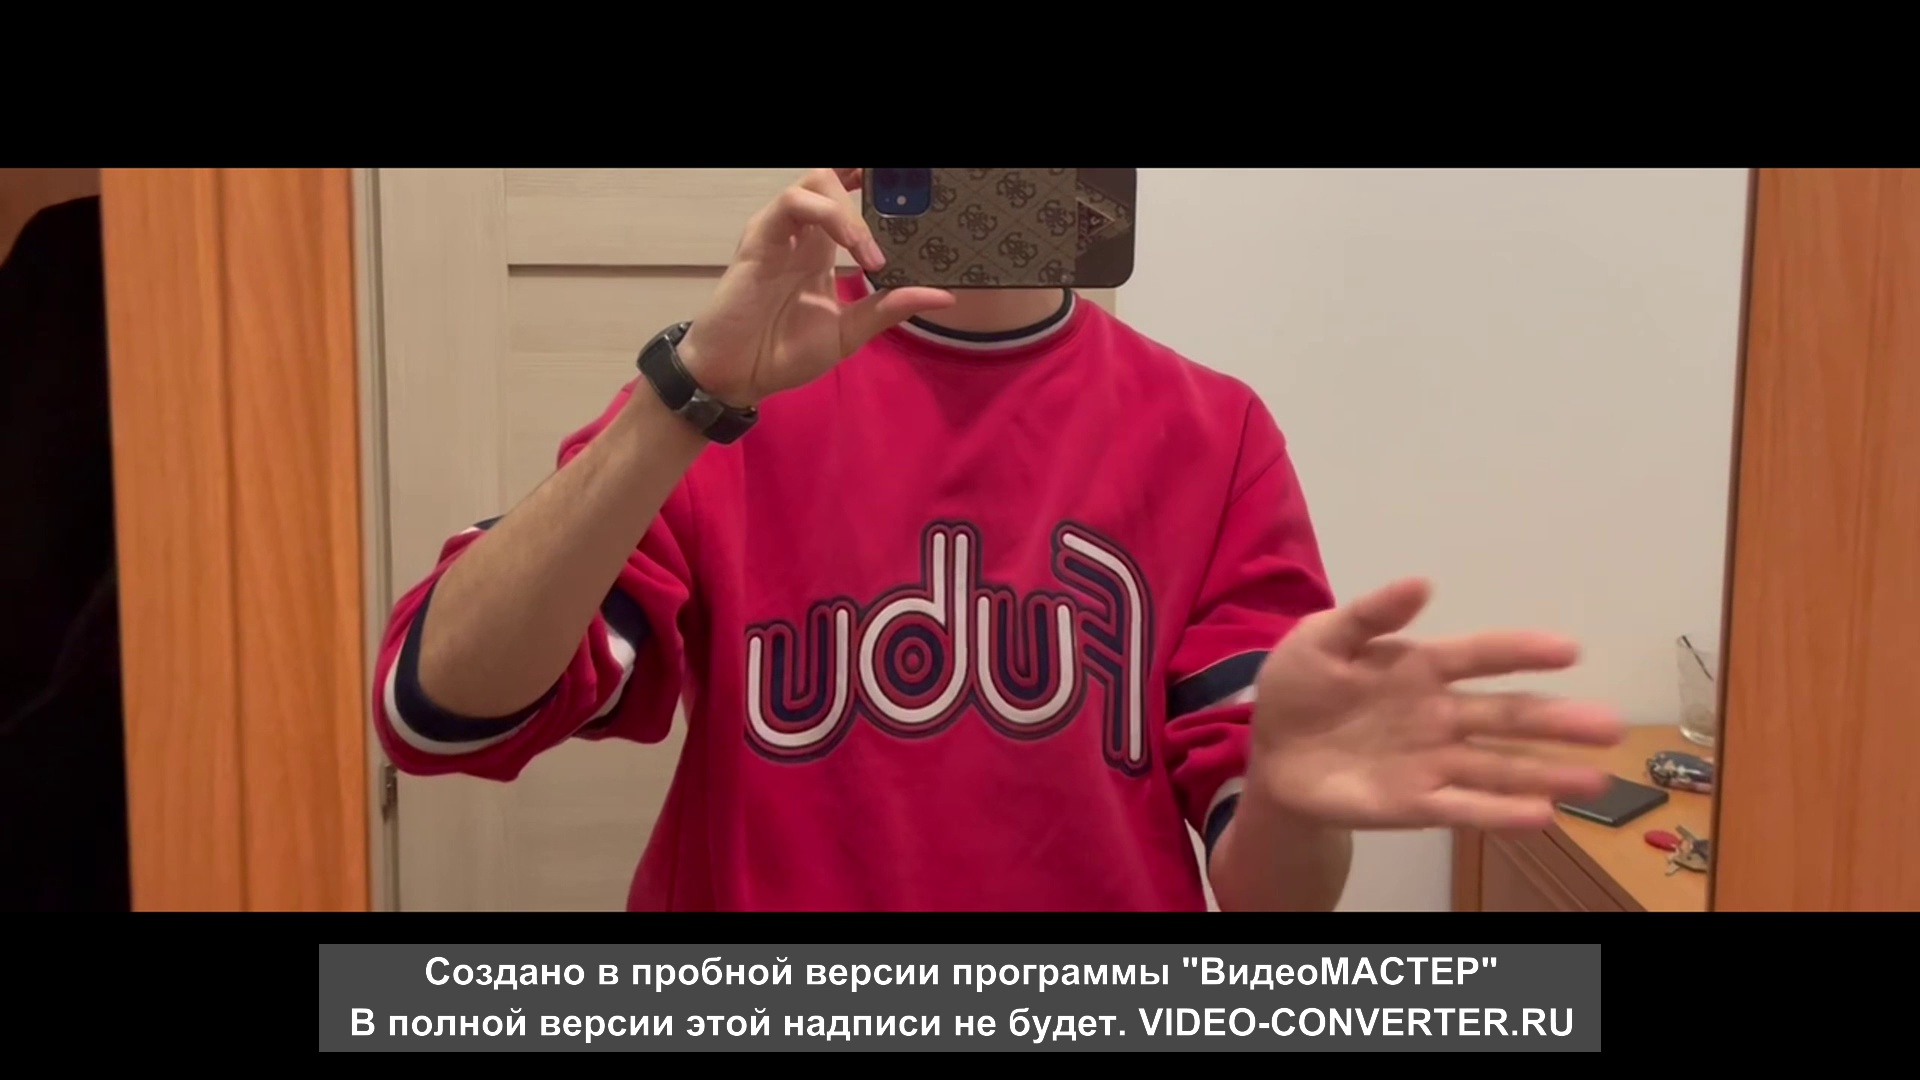Ладонь: (1247, 579, 1623, 831)
